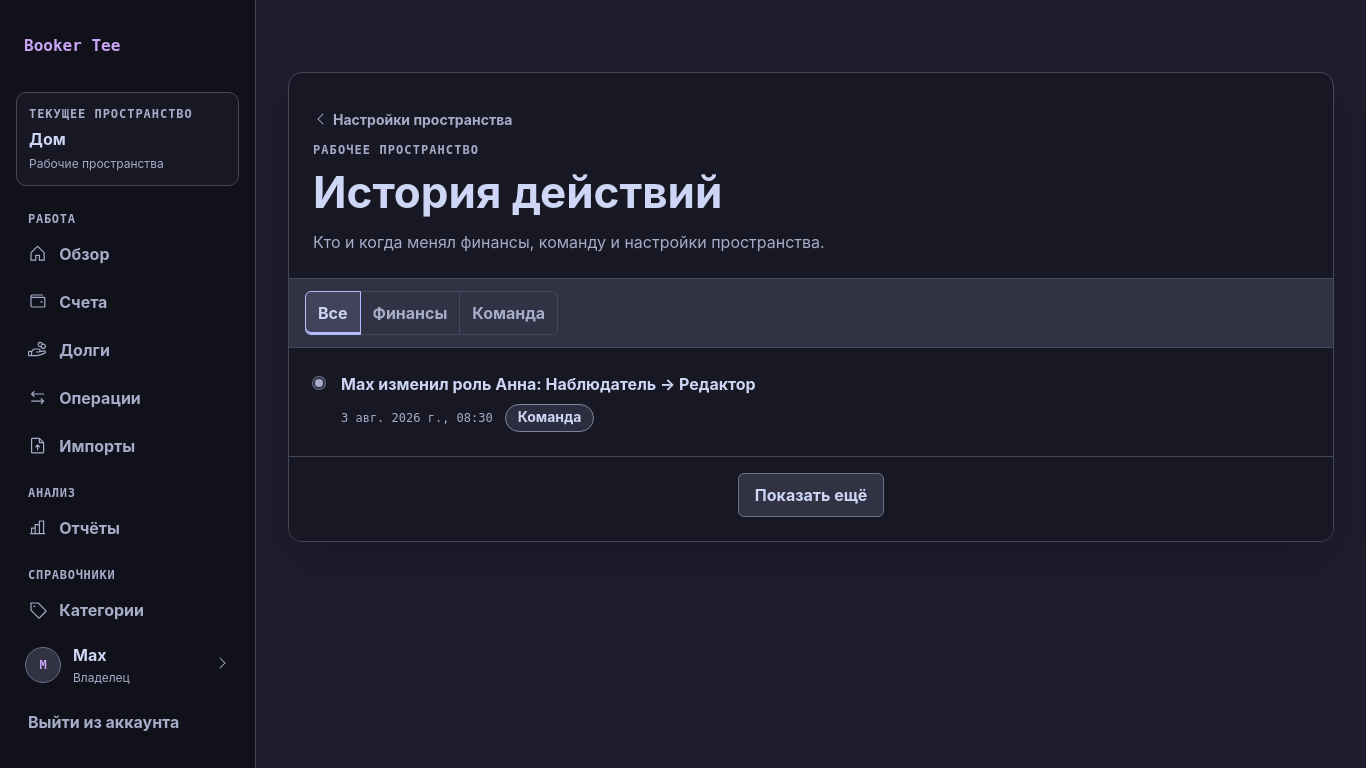
Test: WorkspaceActivityPage › appends the next keyset page
Click the button "Показать ещё": (811, 495) [738, 473, 884, 517]
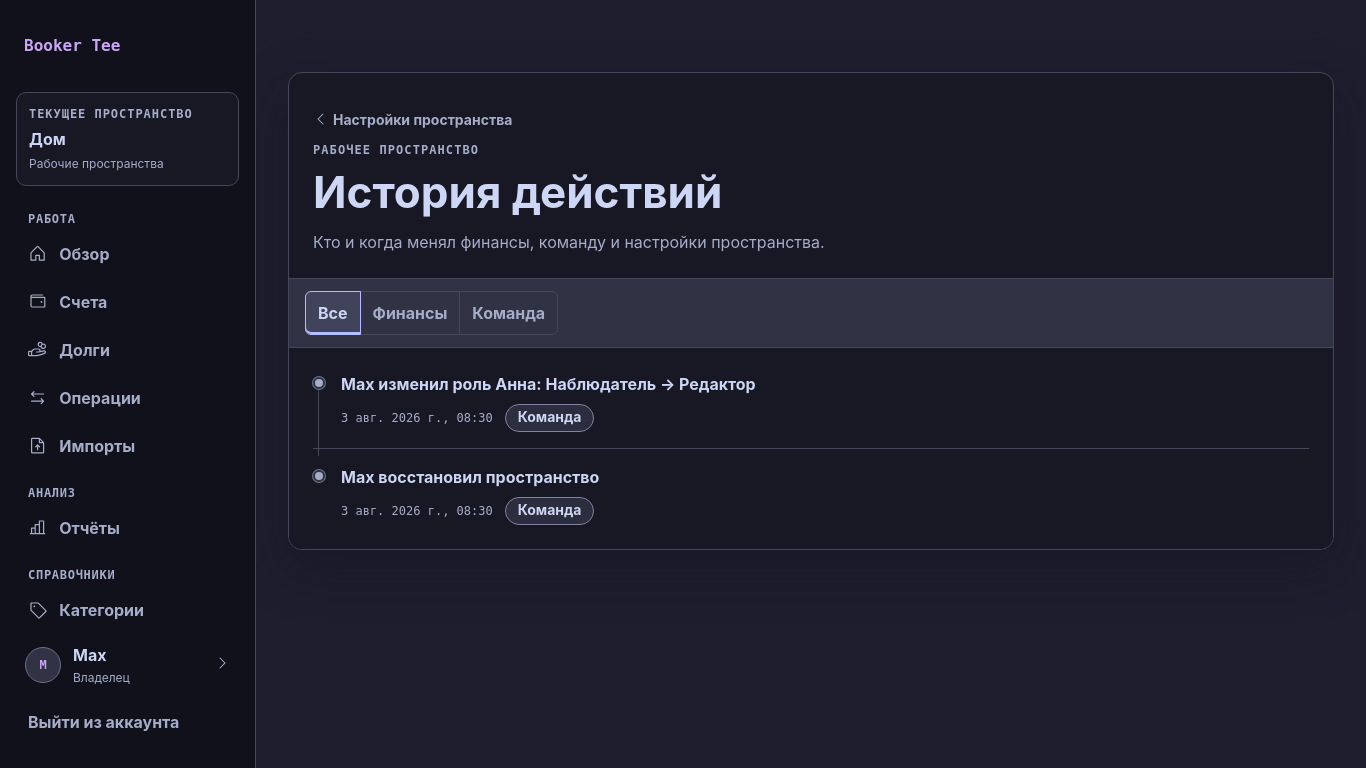
Expected: the text "Max восстановил пространство" is shown, [341, 467, 599, 487]
Expected: the button "Показать ещё" is gone
